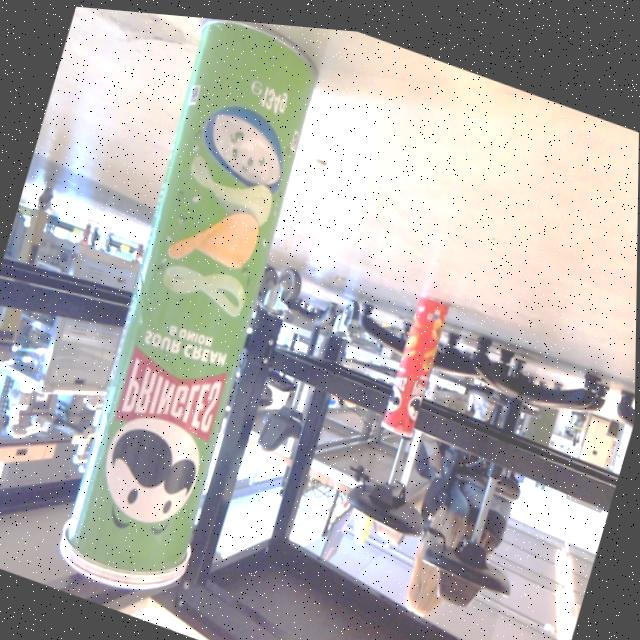greenpringles: (42, 3, 348, 633)
redpringles: (371, 267, 464, 440)
